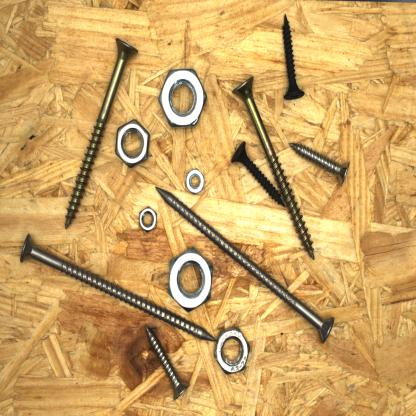screw: (151, 180, 340, 348), (16, 230, 220, 345), (227, 70, 318, 264), (60, 33, 144, 235), (226, 136, 286, 210), (142, 322, 194, 402), (286, 136, 356, 189), (276, 11, 308, 105)
